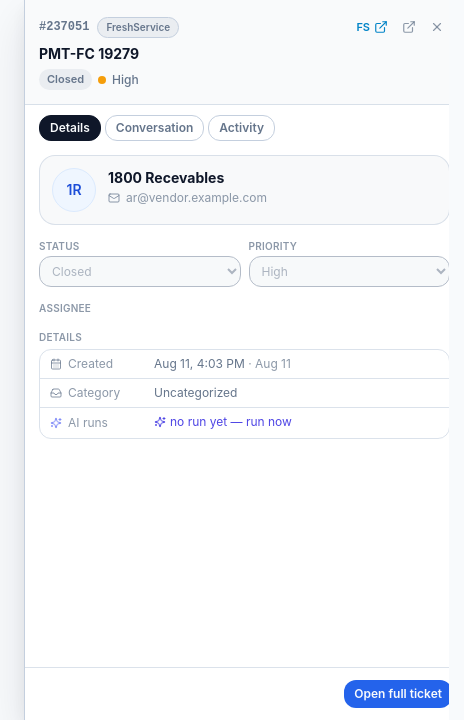
Test: TicketPreview activity tab actor kinds (TU-2) › default: machine rows hidden with a count, visible rows carry kind chips
The image size is (464, 720).
Expected: the heading "PMT-FC 19279" is shown, x1=39 y1=45 x2=139 y2=62
Step 1. Click the tab "Activity" → (242, 128), box x1=208 y1=115 x2=275 y2=141
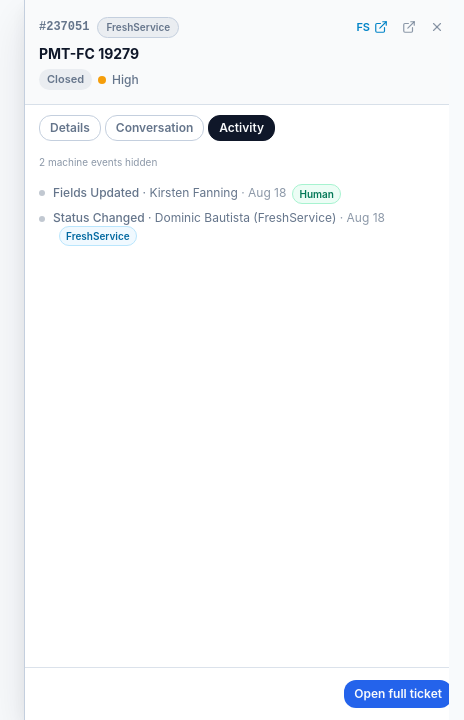
Result: the text with test id "peek-machine-hidden" reads "2 machine events hidden" at x1=39 y1=156 x2=157 y2=168
